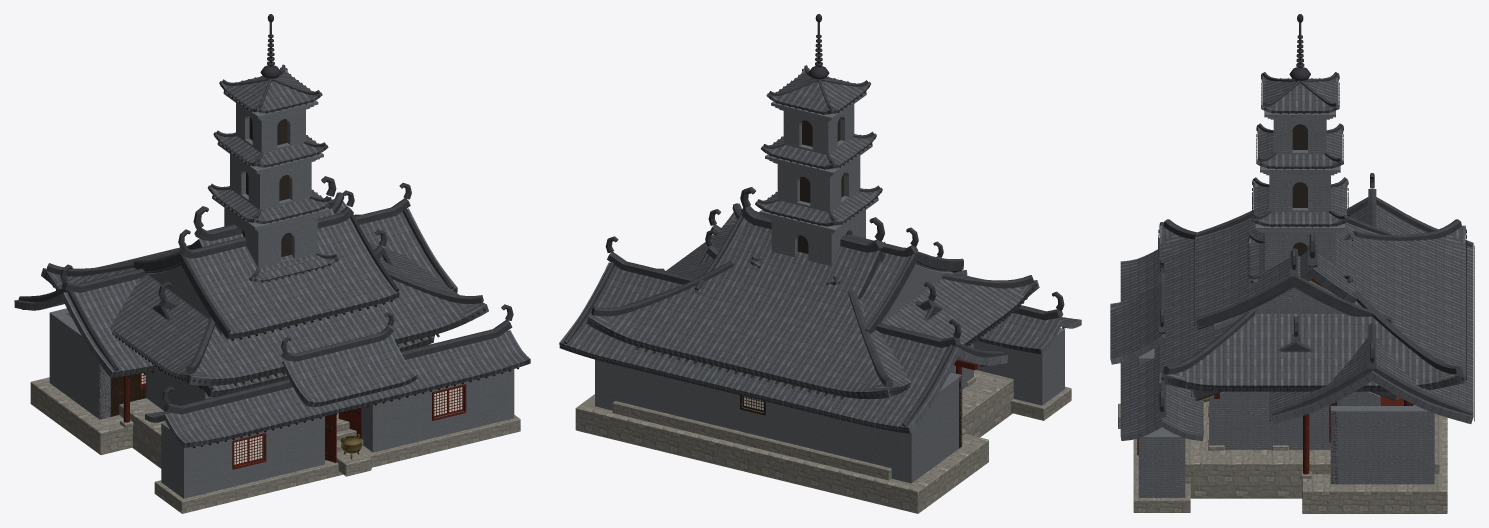
Rendered from eastasia.glb.
The picture shows the model from 3 angles, left to right: view 1: azimuth 30°, elevation 25°; view 2: azimuth 150°, elevation 25°; view 3: azimuth 270°, elevation 25°; orthographic projection. The views are drawn at different scales.
Parts seen in each view (by area): view 1: courtyard_estate_mesh, temple_ea_mesh, pagoda_small_mesh, house_town_ea_mesh, house_tile_ea_mesh; view 2: courtyard_estate_mesh, temple_ea_mesh, pagoda_small_mesh, house_town_ea_mesh, house_tile_ea_mesh; view 3: temple_ea_mesh, courtyard_estate_mesh, pagoda_small_mesh, house_town_ea_mesh, house_tile_ea_mesh.
Boxes of the visible parts, <box> form: courtyard_estate_mesh: <box>14,182,530,513</box>; temple_ea_mesh: <box>41,176,488,476</box>; pagoda_small_mesh: <box>208,14,339,282</box>; house_town_ea_mesh: <box>133,190,399,340</box>; house_tile_ea_mesh: <box>145,229,434,410</box>; courtyard_estate_mesh: <box>559,209,1081,513</box>; temple_ea_mesh: <box>586,187,1039,480</box>; pagoda_small_mesh: <box>749,14,885,285</box>; house_town_ea_mesh: <box>695,190,963,333</box>; house_tile_ea_mesh: <box>699,229,973,389</box>; temple_ea_mesh: <box>1118,219,1466,498</box>; courtyard_estate_mesh: <box>1110,173,1474,513</box>; pagoda_small_mesh: <box>1247,14,1352,284</box>; house_town_ea_mesh: <box>1194,210,1393,330</box>; house_tile_ea_mesh: <box>1191,316,1398,449</box>.
Bounding box in the file's own units: 16.12 × 17.68 × 14.05.
18 materials, 12 textured.
